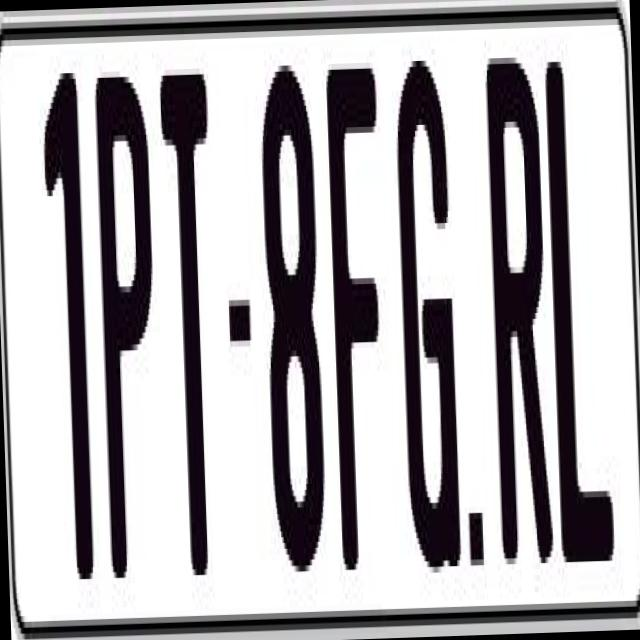1: (38, 72, 97, 609)
8: (256, 52, 330, 578)
F: (320, 56, 388, 594)
G: (392, 49, 459, 562)
L: (544, 48, 615, 580)
P: (90, 65, 160, 572)
R: (480, 56, 558, 576)
T: (158, 62, 222, 575)
